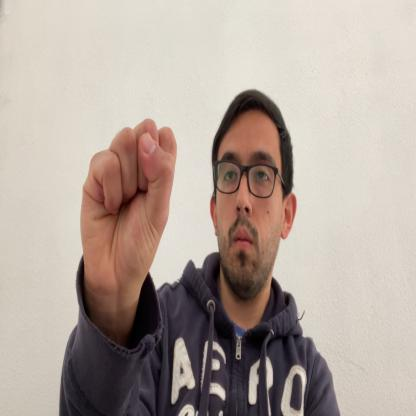S: (79, 119, 178, 305)
